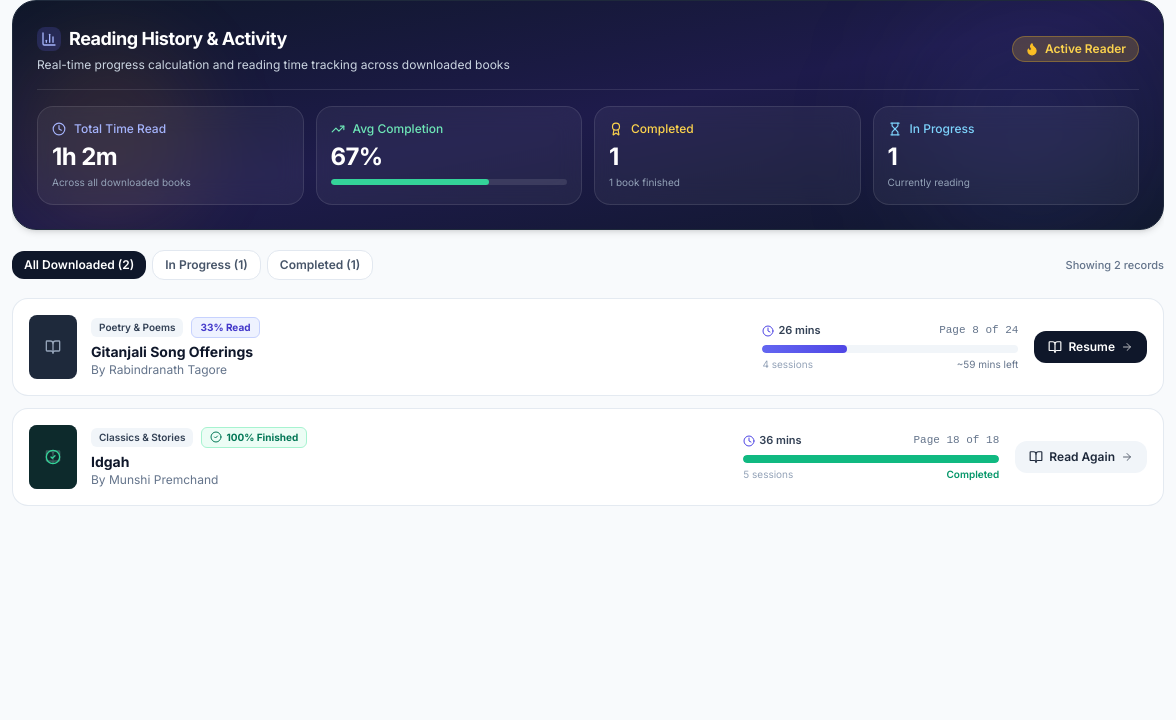
Test: ReadingHistoryDashboard › filters books by progress status
Expected: the heading "Gitanjali Song Offerings" is shown, top-left (91, 342), bottom-right (253, 360)
Expected: the heading "Idgah" is shown, top-left (91, 452), bottom-right (130, 470)
Note: Click "Completed" filter
Click the button "Completed (1)".
click(320, 265)  # box top-left (267, 250), bottom-right (373, 280)
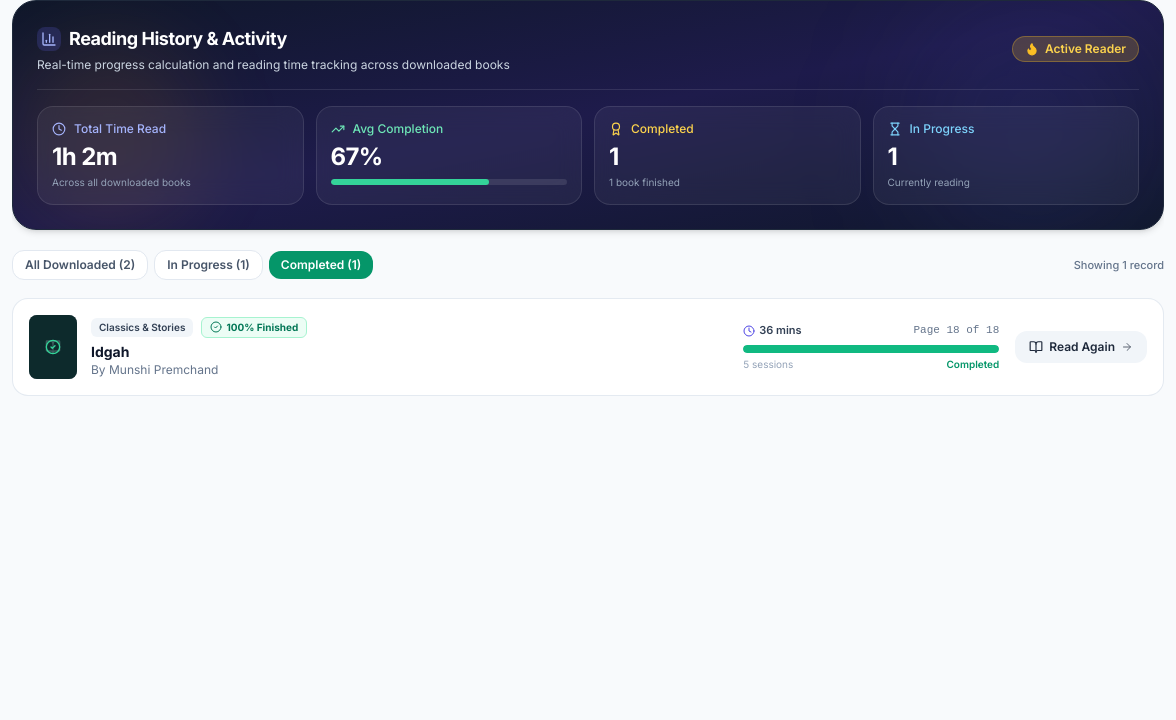
Expected: the heading "Idgah" is shown, top-left (91, 342), bottom-right (130, 360)
Expected: the heading "Gitanjali Song Offerings" is gone
Note: Click "In Progress" filter
Click the button "In Progress (1)".
click(209, 265)  # box top-left (154, 250), bottom-right (263, 280)
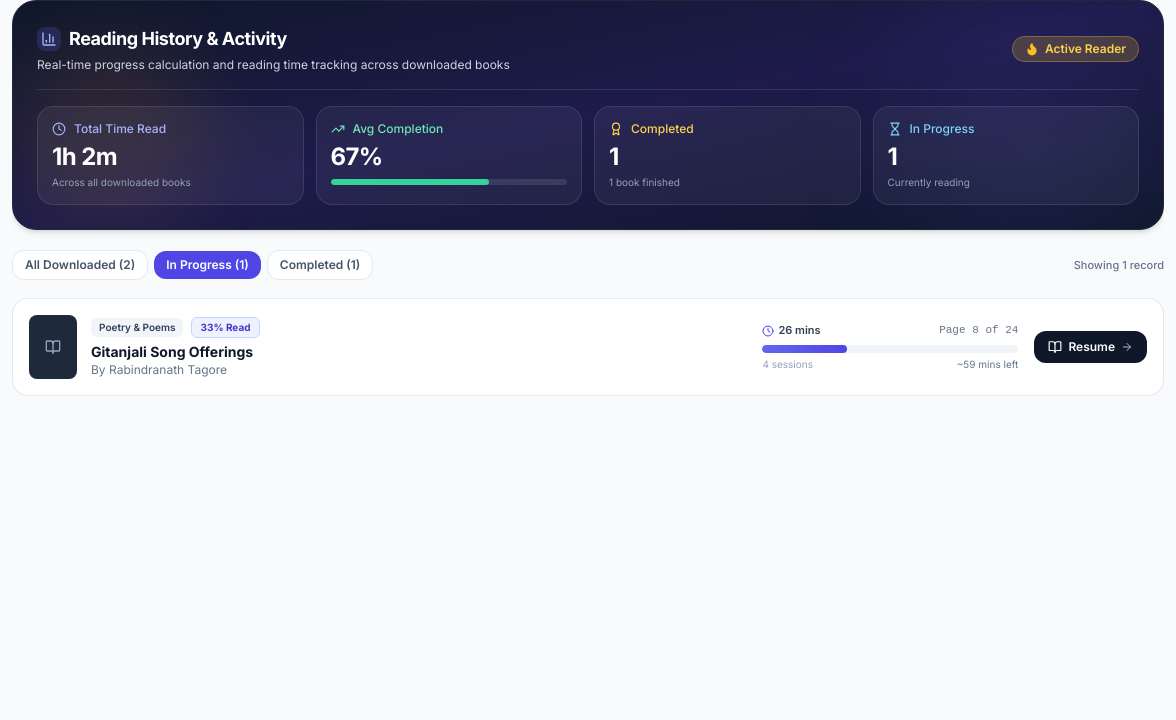
Expected: the heading "Gitanjali Song Offerings" is shown, top-left (91, 342), bottom-right (253, 360)
Expected: the heading "Idgah" is gone
